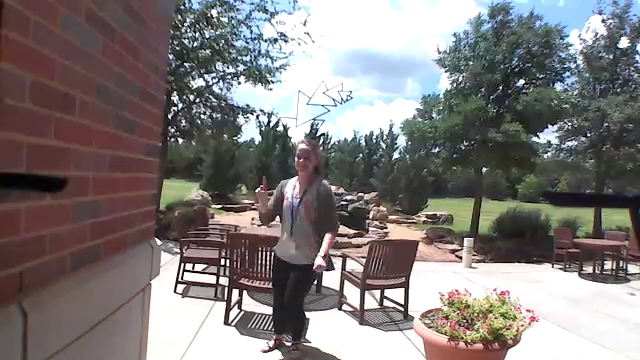up: (252, 172, 274, 205)
